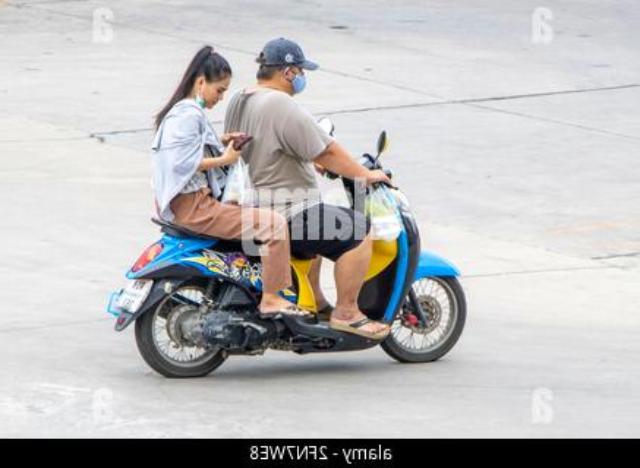motor: (115, 114, 467, 378)
non-helm: (258, 39, 320, 96), (188, 47, 233, 109)
